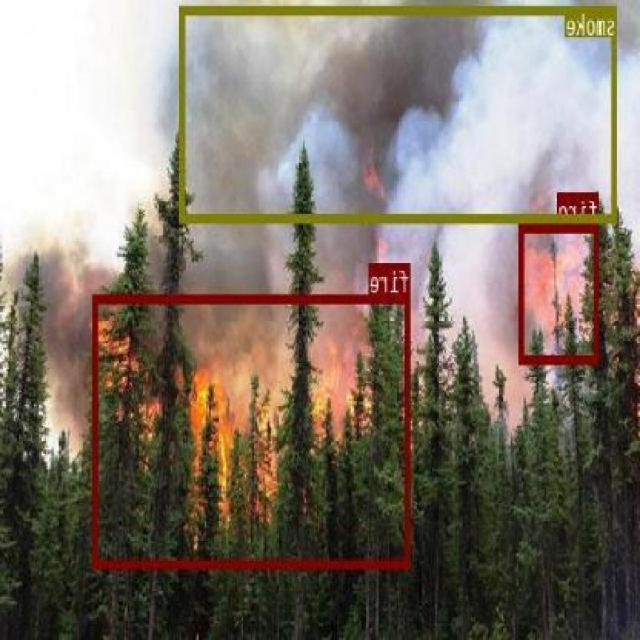Fire: (140, 342, 307, 512), (86, 305, 142, 373)
Smoke: (150, 0, 640, 437), (0, 228, 152, 456)
